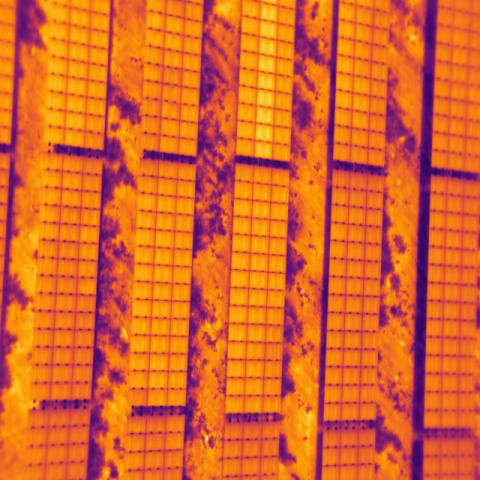fault: (255, 1, 280, 162)
